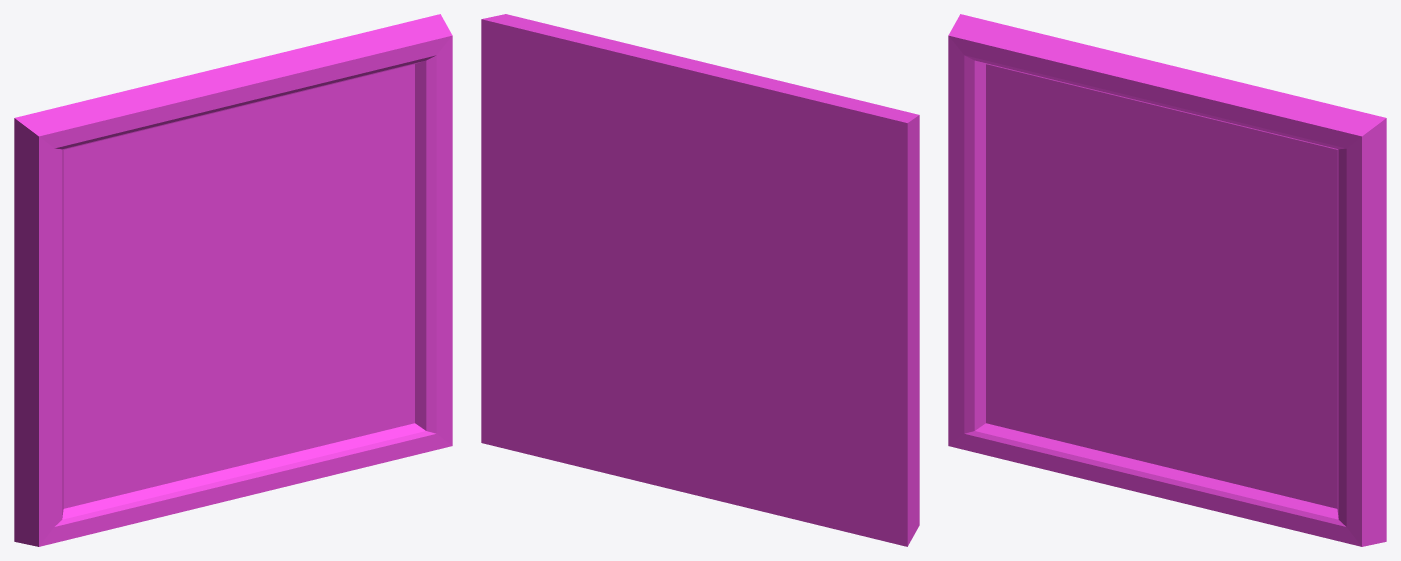
The model's file is SM_Picture_Cat_Painting_Fantasy.fbx.
The picture shows the model from 3 angles, left to right: view 1: azimuth 30°, elevation 25°; view 2: azimuth 150°, elevation 25°; view 3: azimuth 330°, elevation 25°; orthographic projection.
Parts seen in each view (by area): view 1: SM_Picture_Cat_Painting_Fantasy; view 2: SM_Picture_Cat_Painting_Fantasy; view 3: SM_Picture_Cat_Painting_Fantasy.
Boxes of the visible parts, bbox=[...] form: SM_Picture_Cat_Painting_Fantasy: bbox=[14, 14, 452, 546]; SM_Picture_Cat_Painting_Fantasy: bbox=[481, 14, 919, 546]; SM_Picture_Cat_Painting_Fantasy: bbox=[948, 14, 1386, 546].
Bounding box in the file's own units: 1.35 × 1.29 × 0.1005.
